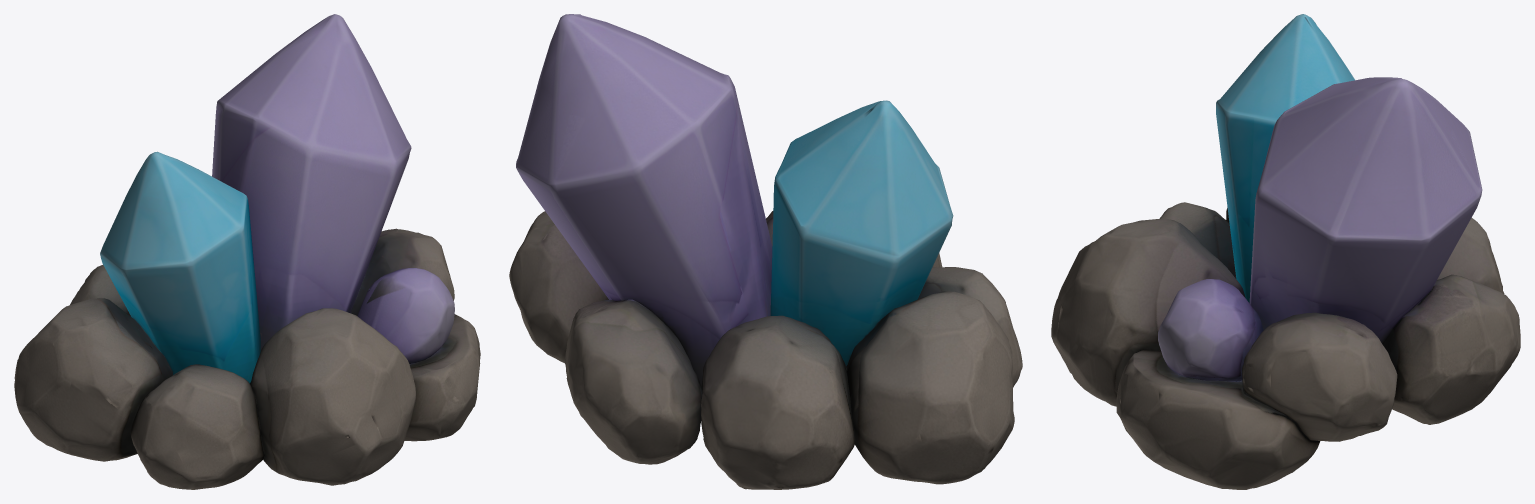
The model's file is mem_ac_crystalcluster.fbx.
3 renders of one model, left to right at view 1: azimuth 30°, elevation 25°; view 2: azimuth 150°, elevation 25°; view 3: azimuth 270°, elevation 25°, orthographic. The views are drawn at different scales.
Parts seen in each view (by area): view 1: tripo_node_7af65970; view 2: tripo_node_7af65970; view 3: tripo_node_7af65970.
Boxes of the visible parts, <box> form: tripo_node_7af65970: <box>14,14,480,489</box>; tripo_node_7af65970: <box>509,14,1022,489</box>; tripo_node_7af65970: <box>1051,14,1520,489</box>.
Size of the model in its own units: 0.998 by 0.8145 by 0.8848.
